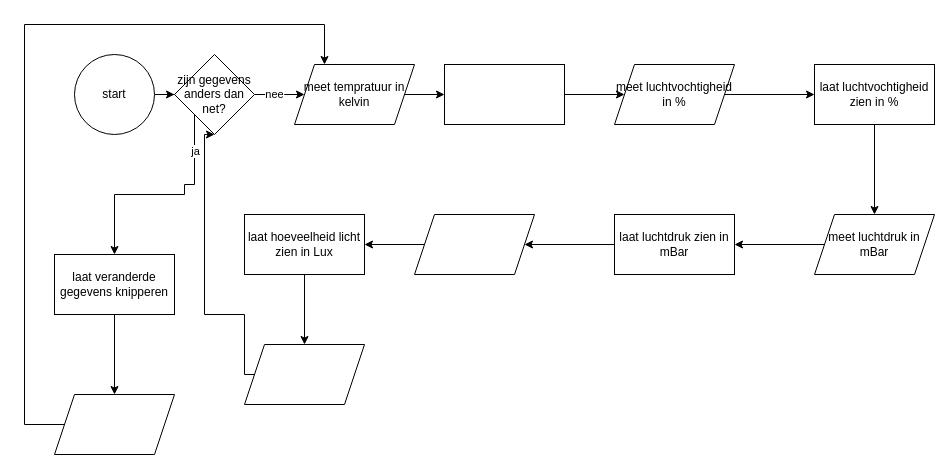
Image size: 952x472. Some labels were removed from this diagram. Here are the shapes that lost their labels. From the top down, the box of each, then its label:
(444, 64, 564, 124): toon tempratuur in kelvin
(414, 214, 534, 274): meet licht in Lux
(244, 344, 364, 404): meet alles opnieuw
(54, 394, 174, 454): stop na 10 seconden met knipperen
